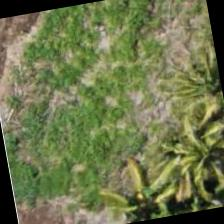Kelapa_Sawit: (132, 119, 223, 220), (147, 30, 223, 131), (79, 150, 180, 223), (151, 79, 223, 181)
